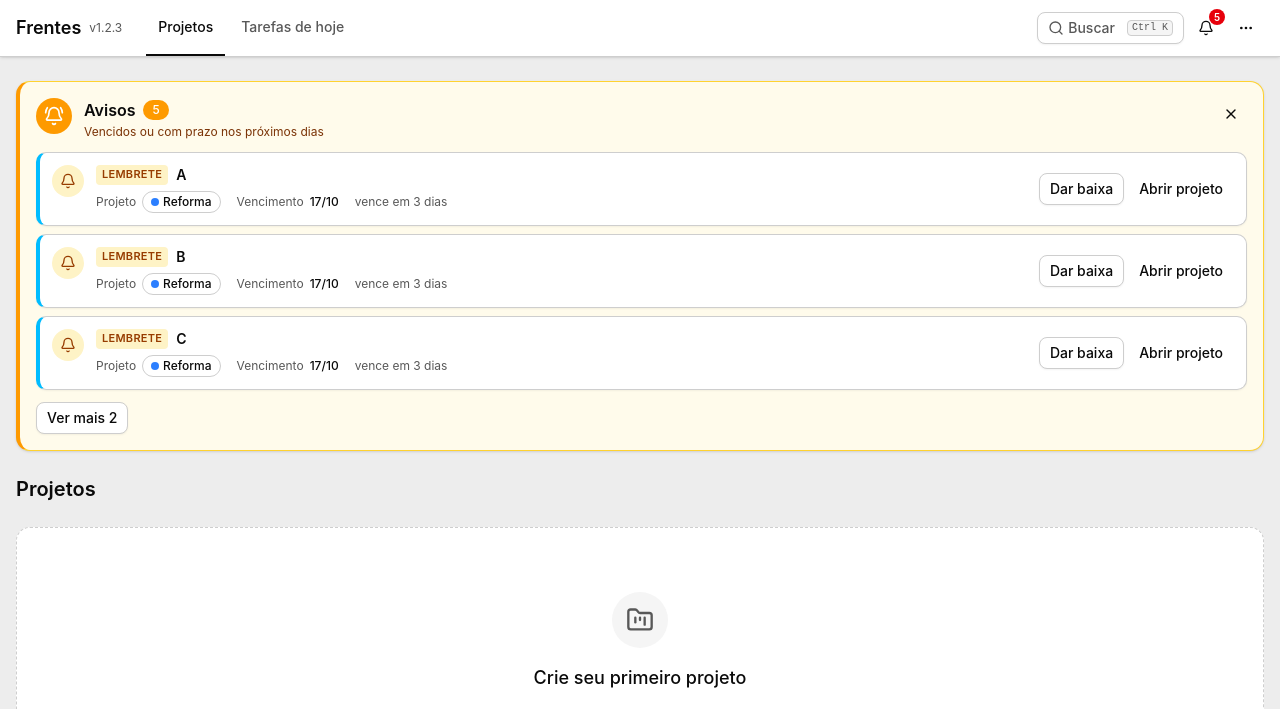
it: PainelAvisos (01 §4.1, RN-52..55) › mostra os 3 primeiros e "Ver mais N" expande a lista toda (RN-52)
This screenshot has width=1280, height=709.
Expected: the element "Avisos" is shown, [16,81,1264,451]
Expected: the icon named "5 no total" reads "5", [152,102,160,117]
What coordinates should you click on to do the following:
click the button "Ver mais 2"
I would click on:
 (82, 418)
Its box is [36,402,128,434].
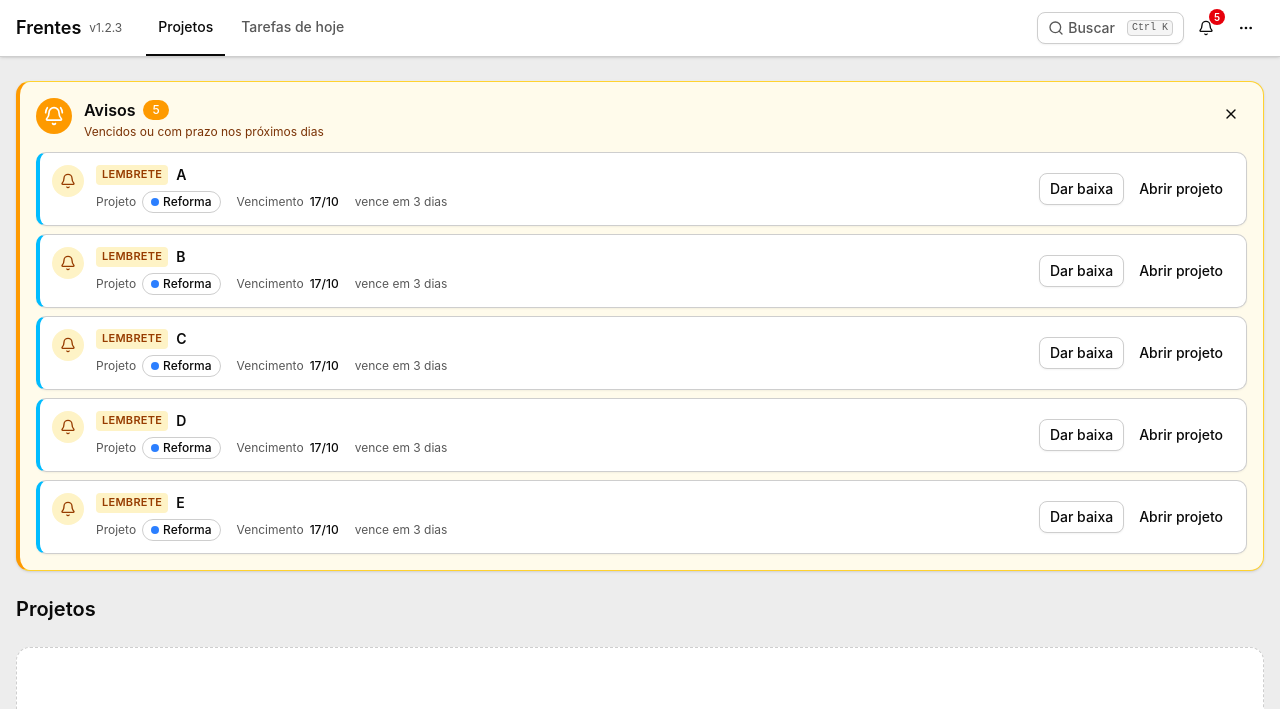
Result: the number of list items is 5 at [36,152,1247,226]; [36,234,1247,308]; [36,316,1247,390]; [36,398,1247,472]; [36,480,1247,554]
Result: the button "Ver mais" is gone
